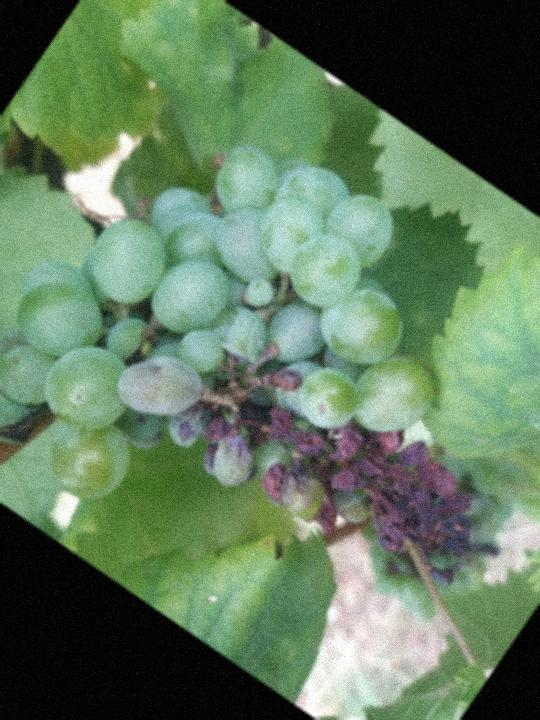grape: (0, 54, 540, 702)
